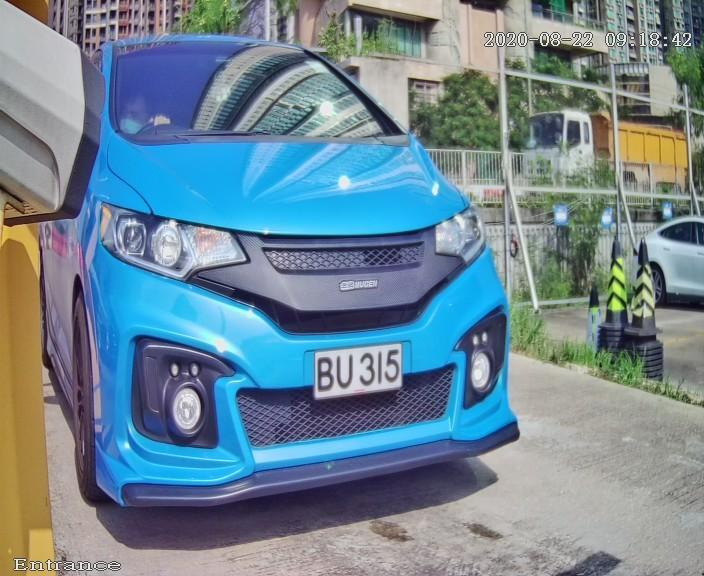Car: (23, 3, 547, 548)
License Plate: (286, 326, 435, 413)
